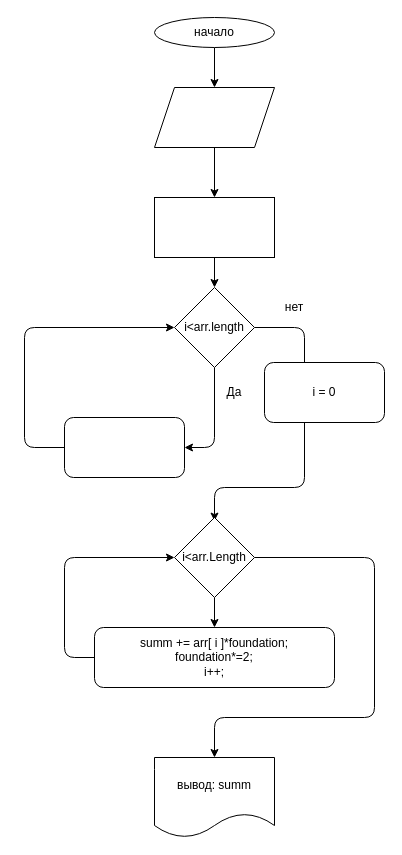
This 402x855 diagram has some shape labels left out. Each missing label, with the centre of its shape:
"arr[ i ] = value%10; value /=10;" goes at [124,447].
"arr[value.Length] summ =0; foundation =1; i=0;" goes at [214,227].
"ввод: value" goes at [214,117].
